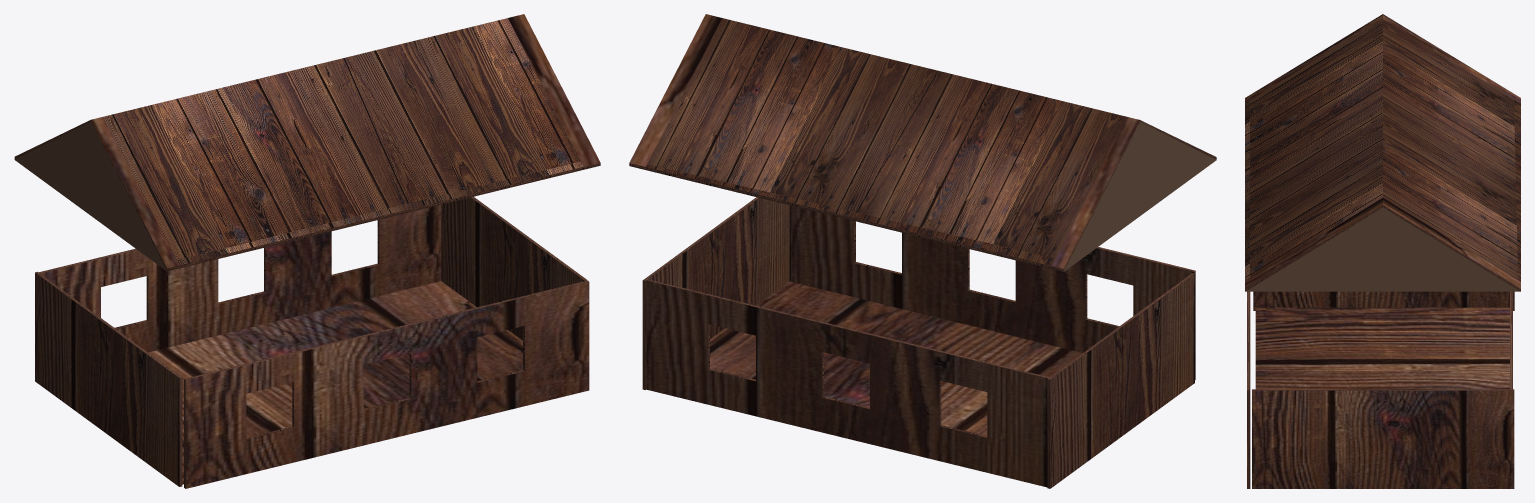
File: Carpenter.fbx
3 renders of one model, left to right at view 1: azimuth 30°, elevation 25°; view 2: azimuth 150°, elevation 25°; view 3: azimuth 270°, elevation 25°, orthographic. The views are drawn at different scales.
Visible parts, largest first — view 1: Cube.005, Cube, Cube.003, Cube.001; view 2: Cube.005, Cube, Cube.003, Cube.001; view 3: Cube.005, Cube.003, Cube.001, Cube.
Part boxes in pixels (box(x1,y1,x2,y2)): Cube.005: box(14, 14, 600, 271); Cube: box(39, 204, 589, 488); Cube.003: box(35, 196, 586, 486); Cube.001: box(148, 281, 522, 484); Cube.005: box(629, 14, 1216, 271); Cube: box(644, 205, 1195, 487); Cube.003: box(642, 197, 1194, 488); Cube.001: box(710, 281, 1082, 435); Cube.005: box(1245, 14, 1520, 291); Cube.003: box(1252, 291, 1514, 488); Cube.001: box(1255, 307, 1509, 389); Cube: box(1247, 291, 1512, 488).
Bounding box in the file's own units: 2505 × 1762 × 1527.
1 material, 1 textured.
